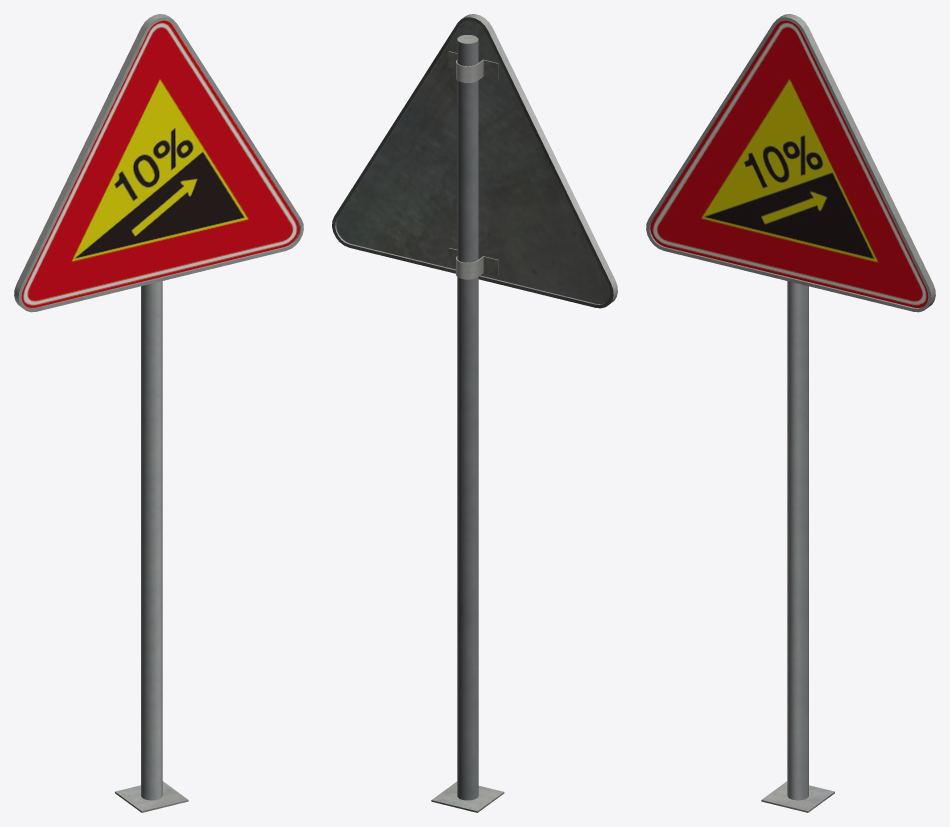
3 views of the same model, side by side, from view 1: azimuth 30°, elevation 25°; view 2: azimuth 150°, elevation 25°; view 3: azimuth 330°, elevation 25° (orthographic).
Visible parts, largest first — view 1: MainBuilding; view 2: MainBuilding; view 3: MainBuilding.
Boxes of the visible parts, box(x1,y1,x2,y2) form: MainBuilding: box(14, 14, 303, 812); MainBuilding: box(332, 14, 617, 812); MainBuilding: box(646, 14, 935, 812).
Bounding box in the file's own units: 0.9151 × 2.41 × 0.15.
1 material, 1 textured.
